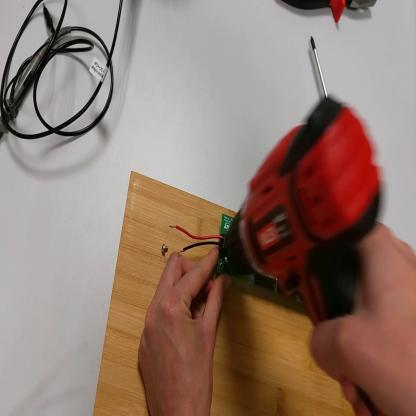electric screwdriver: (218, 97, 381, 414)
hand: (311, 219, 416, 414), (139, 248, 232, 415)
high voltage board: (169, 215, 276, 291)
oscilloscope probe tip: (1, 22, 74, 140)
pliers: (279, 2, 377, 24)
screwdriver-: (309, 33, 328, 97)
working area: (95, 171, 354, 416)
